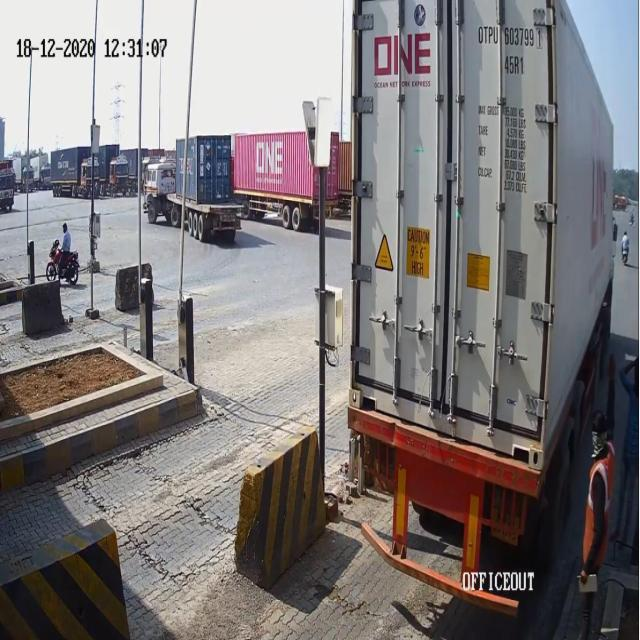ISO: (499, 51, 534, 71)
container_number: (476, 17, 550, 42)
